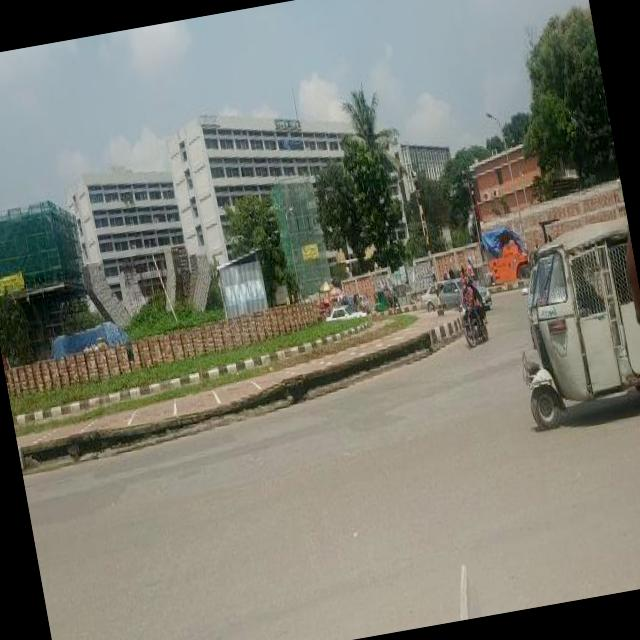motorcycle: (496, 213, 640, 436), (457, 297, 491, 349), (391, 276, 414, 308), (472, 260, 496, 288), (370, 287, 389, 311), (347, 291, 365, 313)
